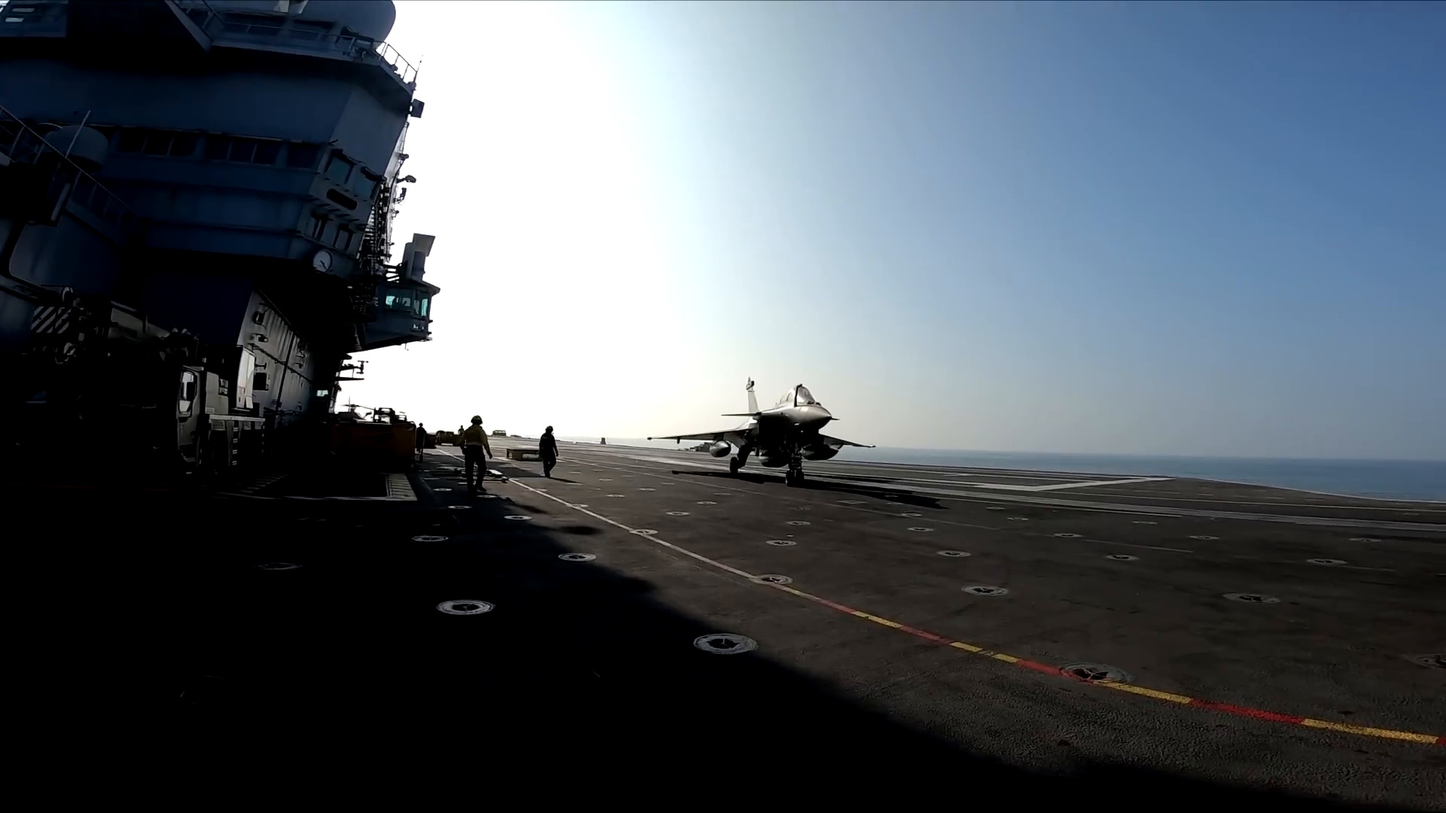Rafale: (649, 375, 876, 481)
